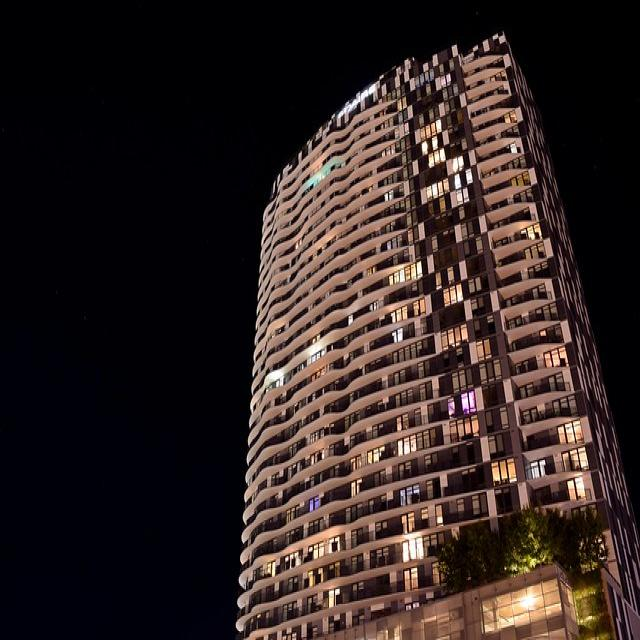building: (235, 36, 640, 640)
